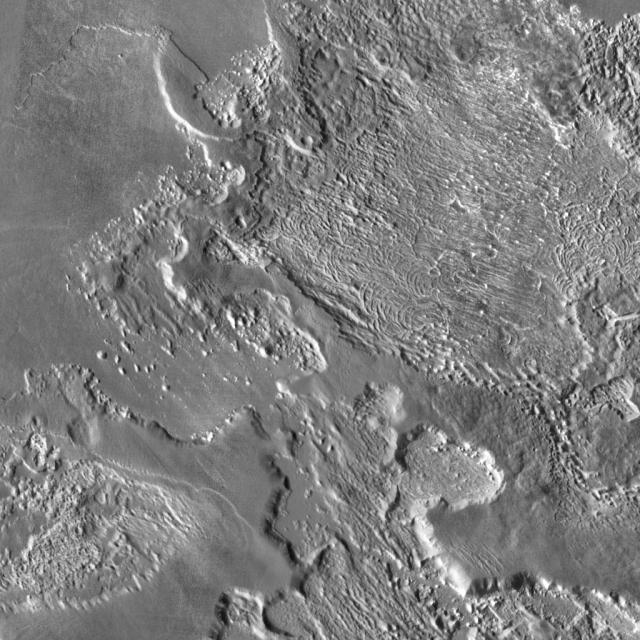crater: (306, 134, 318, 146)
